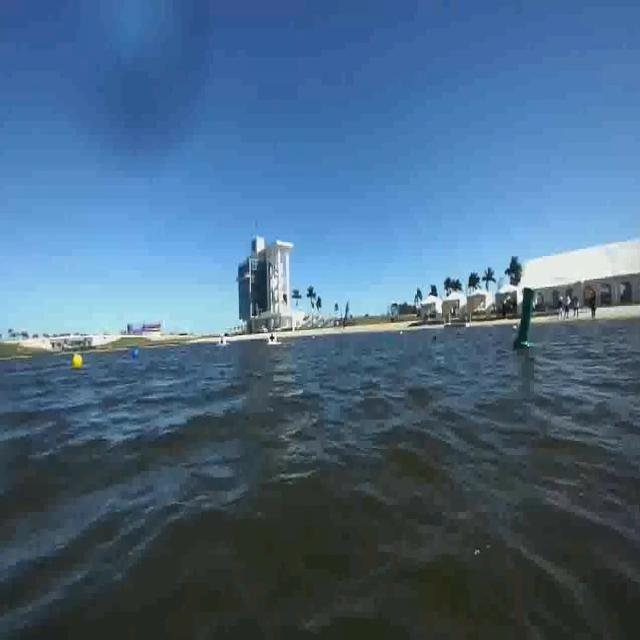blue-buoy: (130, 343, 140, 361)
green-column-buoy: (514, 286, 537, 350)
yellow-buoy: (72, 352, 83, 371)
